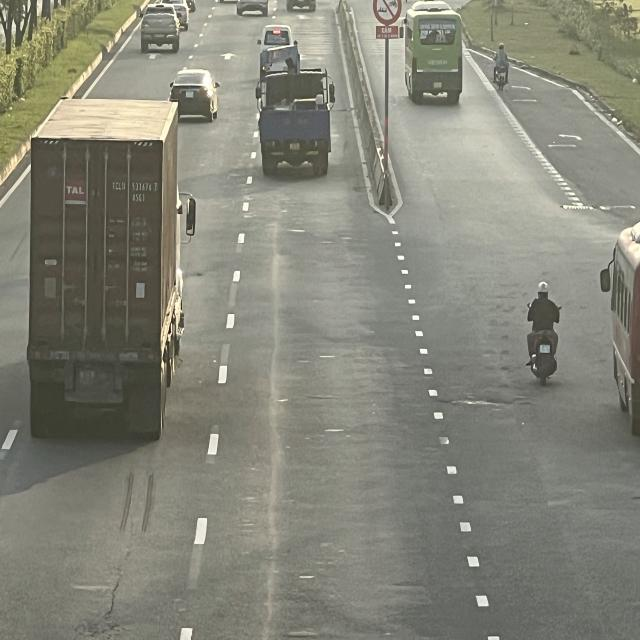car: (170, 68, 220, 116), (139, 1, 182, 50)
coach: (596, 222, 637, 436), (404, 3, 464, 103)
container: (32, 102, 188, 439)
truck: (255, 69, 333, 176)
